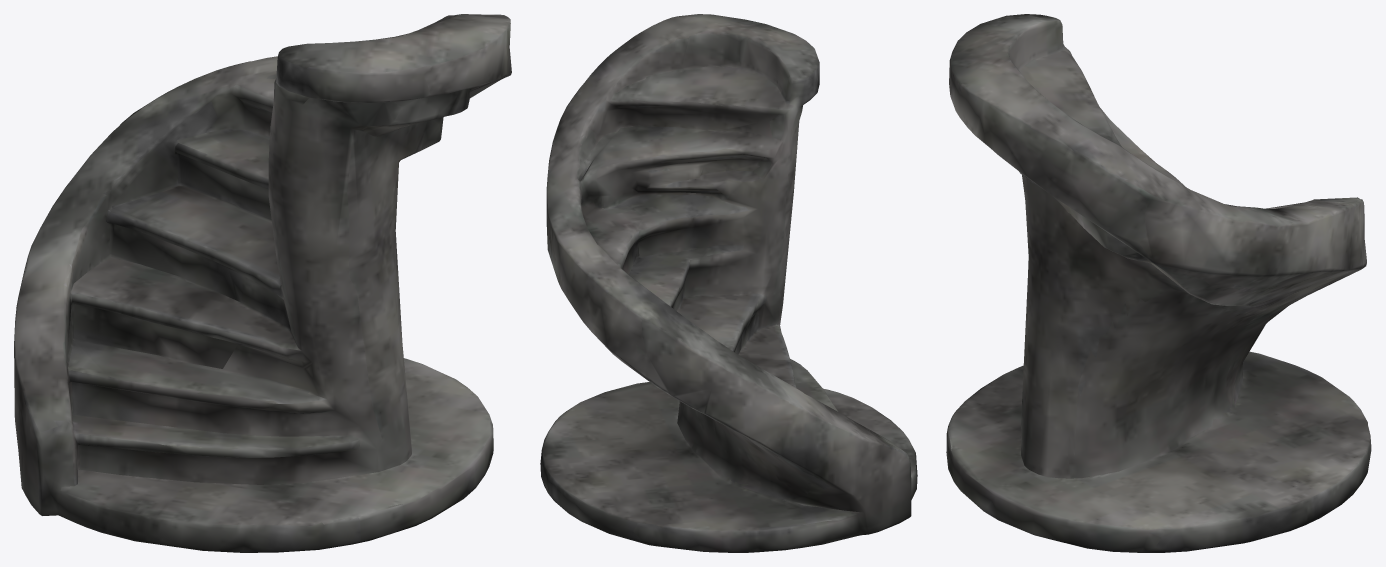
The model's file is chipped-granite-spiral-staircase-v002.glb.
3 views of the same model, side by side, from view 1: azimuth 30°, elevation 25°; view 2: azimuth 150°, elevation 25°; view 3: azimuth 270°, elevation 25° (orthographic). The views are drawn at different scales.
Visible parts, largest first — view 1: chipped-granite-spiral-staircase; view 2: chipped-granite-spiral-staircase; view 3: chipped-granite-spiral-staircase.
Boxes of the visible parts, <box> form: chipped-granite-spiral-staircase: <box>14,14,511,552</box>; chipped-granite-spiral-staircase: <box>540,14,917,552</box>; chipped-granite-spiral-staircase: <box>946,14,1371,552</box>.
Size of the model in its own units: 2.78 by 2.88 by 2.51.
Materials: 1 (1 with a texture image).
